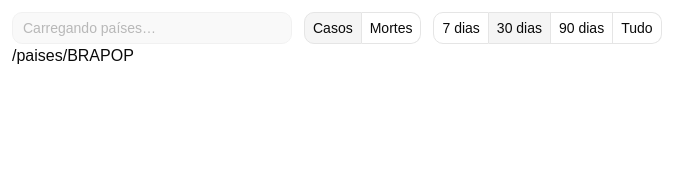
Test: DashboardControls › writes the metric to the URL
Click the radio button labelled "Mortes".
click(392, 28)  # box x1=362 y1=12 x2=422 y2=44
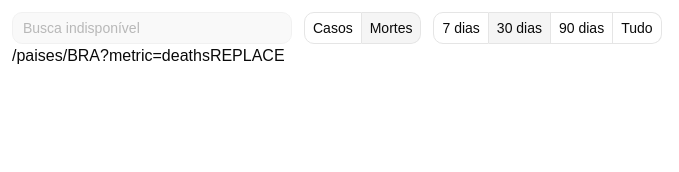
Expected: the text with test id "location" reads "/paises/BRA?metric=deaths", x1=12 y1=47 x2=210 y2=64
